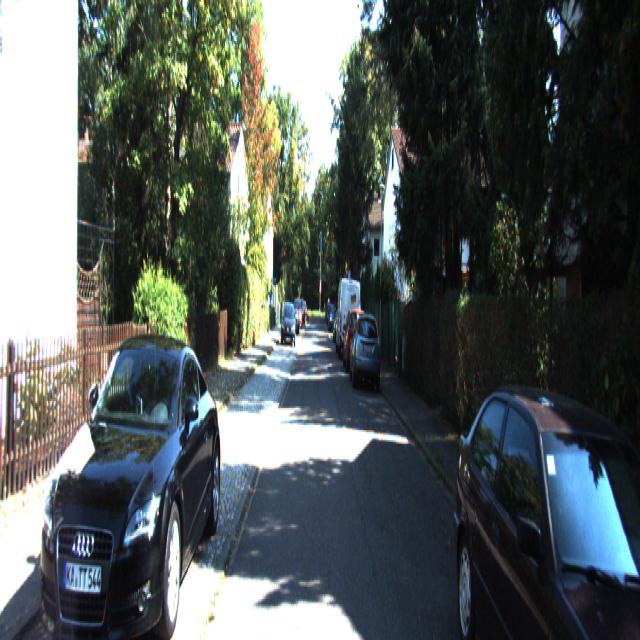Car: (29, 332, 222, 638), (446, 371, 640, 638), (349, 310, 380, 393), (343, 305, 370, 376), (281, 300, 295, 346)
DontCare: (297, 284, 334, 340)
Van: (336, 274, 362, 360)
